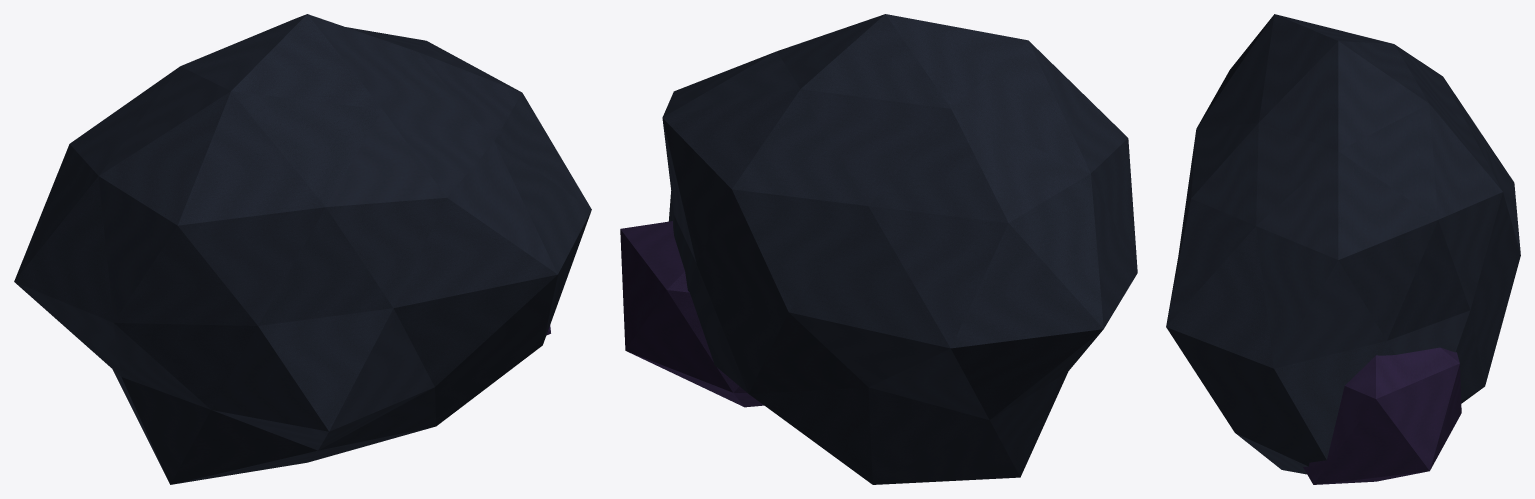
The model's file is BasaltRock_A.fbx.
The picture shows the model from 3 angles, left to right: view 1: azimuth 30°, elevation 25°; view 2: azimuth 150°, elevation 25°; view 3: azimuth 270°, elevation 25°; orthographic projection. The views are drawn at different scales.
Parts seen in each view (by area): view 1: SM_BasaltRock_A; view 2: SM_BasaltRock_A; view 3: SM_BasaltRock_A.
Boxes of the visible parts, bbox=[...] form: SM_BasaltRock_A: bbox=[14, 14, 591, 484]; SM_BasaltRock_A: bbox=[620, 14, 1137, 484]; SM_BasaltRock_A: bbox=[1166, 14, 1520, 484].
Bounding box in the file's own units: 289 × 189 × 244.
Materials: 1 (1 with a texture image).
